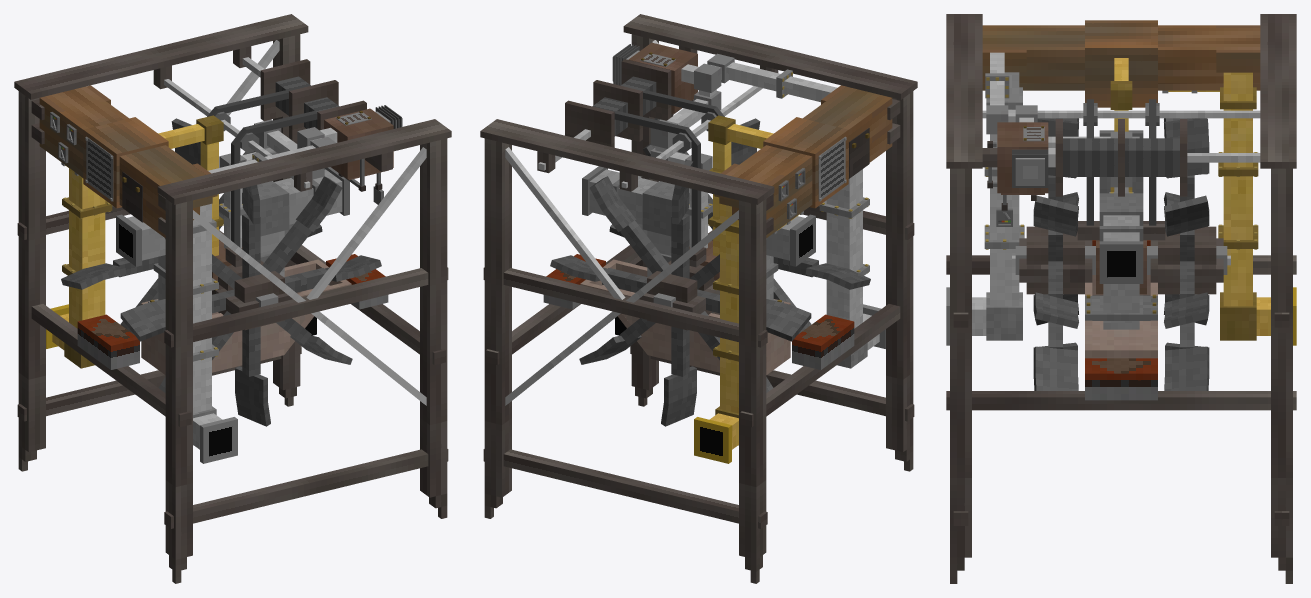
File: small_mining_drill.obj
3 renders of one model, left to right at view 1: azimuth 30°, elevation 25°; view 2: azimuth 150°, elevation 25°; view 3: azimuth 270°, elevation 25°, orthographic. The views are drawn at different scales.
Visible parts, largest first — view 1: Pillier4, Pillier3, Pillier2, Armature2, Armature1, Facade1, StructSout7, Renfort1, TuyAl10, TuyAl2, Facade2, Renfort5 (+46 smaller); view 2: Pillier2, Pillier1, Pillier4, Armature1, Armature2, Facade1, StructSout6, Renfort3, TuyAl2, TuyAl10, Facade2, Renfort5 (+48 smaller); view 3: Facade1, Pillier1, Pillier3, Armature1, Armature2, Renfort4, Facade2, TuyAl10, Treuil1, Belt1, TuyAl2, MoteurTreuil (+59 smaller).
Boxes of the visible parts, left/top/right/bottom form: Pillier4: left=165, top=199, right=192, bottom=486; Pillier3: left=420, top=138, right=447, bottom=424; Pillier2: left=18, top=91, right=45, bottom=379; Armature2: left=157, top=119, right=451, bottom=204; Armature1: left=14, top=14, right=308, bottom=99; Facade1: left=39, top=86, right=212, bottom=213; StructSout7: left=164, top=449, right=448, bottom=528; Renfort1: left=164, top=267, right=448, bottom=347; TuyAl10: left=69, top=168, right=105, bottom=328; TuyAl2: left=193, top=230, right=211, bottom=413; Facade2: left=83, top=117, right=168, bottom=208; Renfort5: left=31, top=304, right=191, bottom=427; Pillier2: left=739, top=199, right=766, bottom=486; Pillier1: left=484, top=138, right=511, bottom=424; Pillier4: left=886, top=91, right=913, bottom=379; Armature1: left=480, top=119, right=774, bottom=204; Armature2: left=623, top=14, right=917, bottom=99; Facade1: left=719, top=86, right=892, bottom=213; StructSout6: left=483, top=449, right=767, bottom=528; Renfort3: left=483, top=267, right=767, bottom=347; TuyAl2: left=826, top=169, right=862, bottom=328; TuyAl10: left=720, top=230, right=738, bottom=413; Facade2: left=763, top=117, right=848, bottom=208; Renfort5: left=740, top=304, right=900, bottom=427; Facade1: left=982, top=25, right=1260, bottom=76; Pillier1: left=1271, top=168, right=1292, bottom=477; Pillier3: left=950, top=168, right=971, bottom=477; Armature1: left=1260, top=14, right=1296, bottom=168; Armature2: left=946, top=14, right=982, bottom=168; Renfort4: left=946, top=391, right=1296, bottom=410; Facade2: left=1085, top=20, right=1157, bottom=107; TuyAl10: left=1223, top=109, right=1252, bottom=306; Treuil1: left=1063, top=138, right=1179, bottom=176; Belt1: left=1085, top=358, right=1157, bottom=400; TuyAl2: left=990, top=109, right=1019, bottom=306; MoteurTreuil: left=997, top=122, right=1048, bottom=194.
Size of what is drawn, in the model's own units: 3 by 4 by 3.
